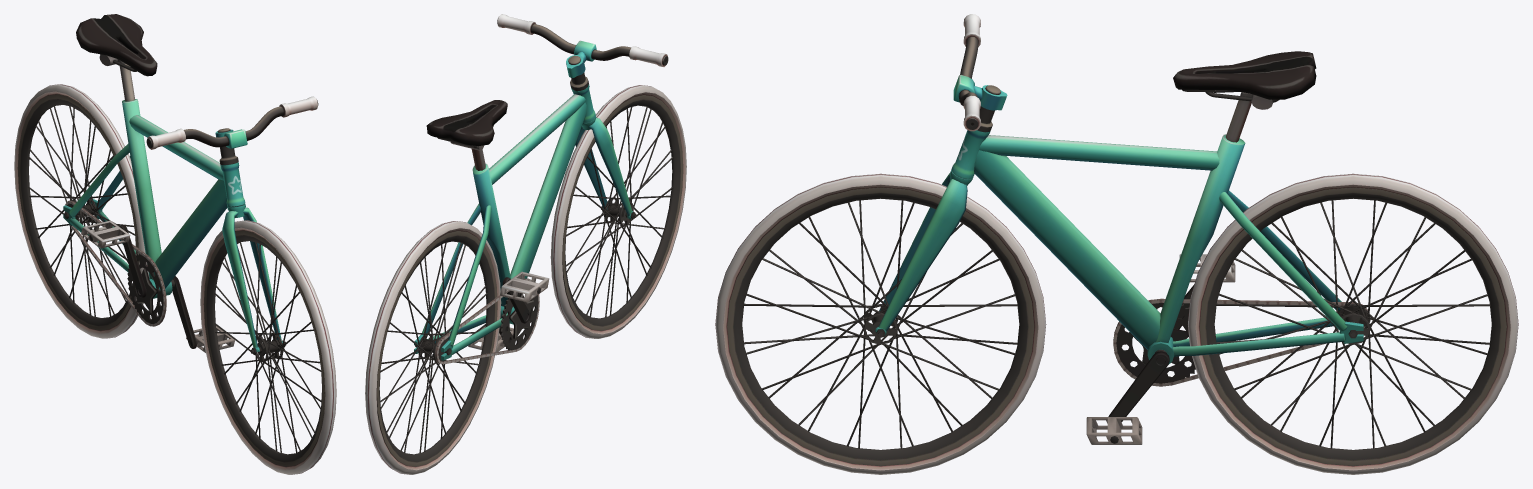
Rendered from bike.glb.
The picture shows the model from 3 angles, left to right: view 1: azimuth 30°, elevation 25°; view 2: azimuth 150°, elevation 25°; view 3: azimuth 270°, elevation 25°; orthographic projection. The views are drawn at different scales.
Visible parts, largest first — view 1: mesh_bike_mesh_base bike_0; view 2: mesh_bike_mesh_base bike_0; view 3: mesh_bike_mesh_base bike_0.
Boxes of the visible parts, left/top/right/bottom form: mesh_bike_mesh_base bike_0: left=14, top=14, right=336, bottom=474; mesh_bike_mesh_base bike_0: left=365, top=14, right=686, bottom=474; mesh_bike_mesh_base bike_0: left=715, top=14, right=1518, bottom=474.
Bounding box in the file's own units: 49.77 × 92.85 × 164.
Materials: 1 (1 with a texture image).
